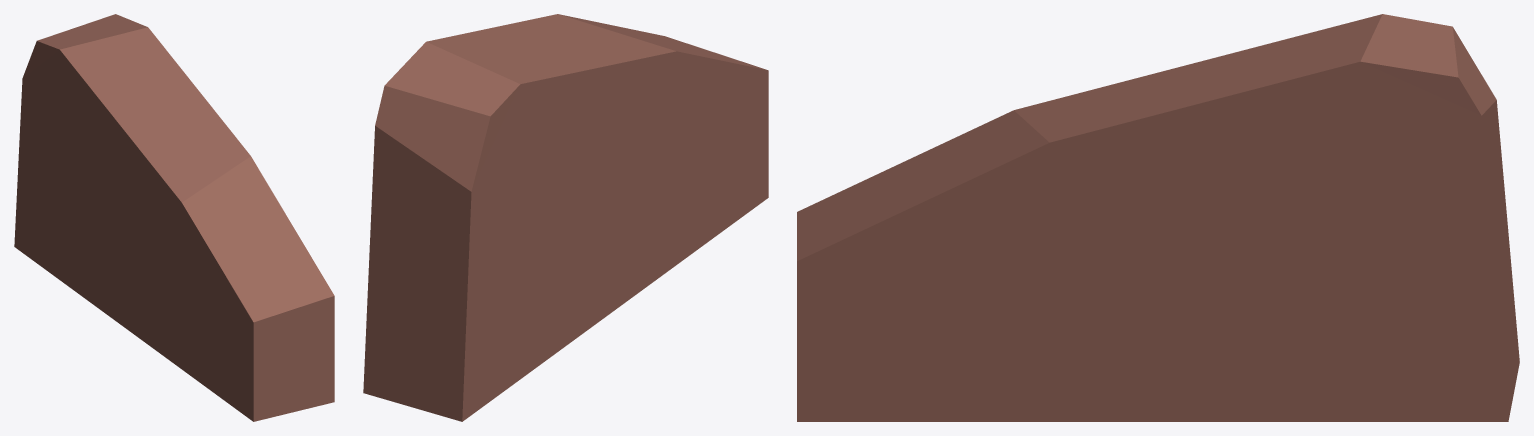
The model's file is T_MurDetruit_7.8.fbx.
The picture shows the model from 3 angles, left to right: view 1: azimuth 30°, elevation 25°; view 2: azimuth 150°, elevation 25°; view 3: azimuth 270°, elevation 25°; orthographic projection. The views are drawn at different scales.
Parts seen in each view (by area): view 1: T_MurDetruit_7.8; view 2: T_MurDetruit_7.8; view 3: T_MurDetruit_7.8.
Part boxes in pixels (x1,y1,x2,y2): T_MurDetruit_7.8: (14,14,334,421); T_MurDetruit_7.8: (363,14,768,421); T_MurDetruit_7.8: (797,14,1519,421).
Bounding box in the file's own units: 13.48 × 37.89 × 68.89.
